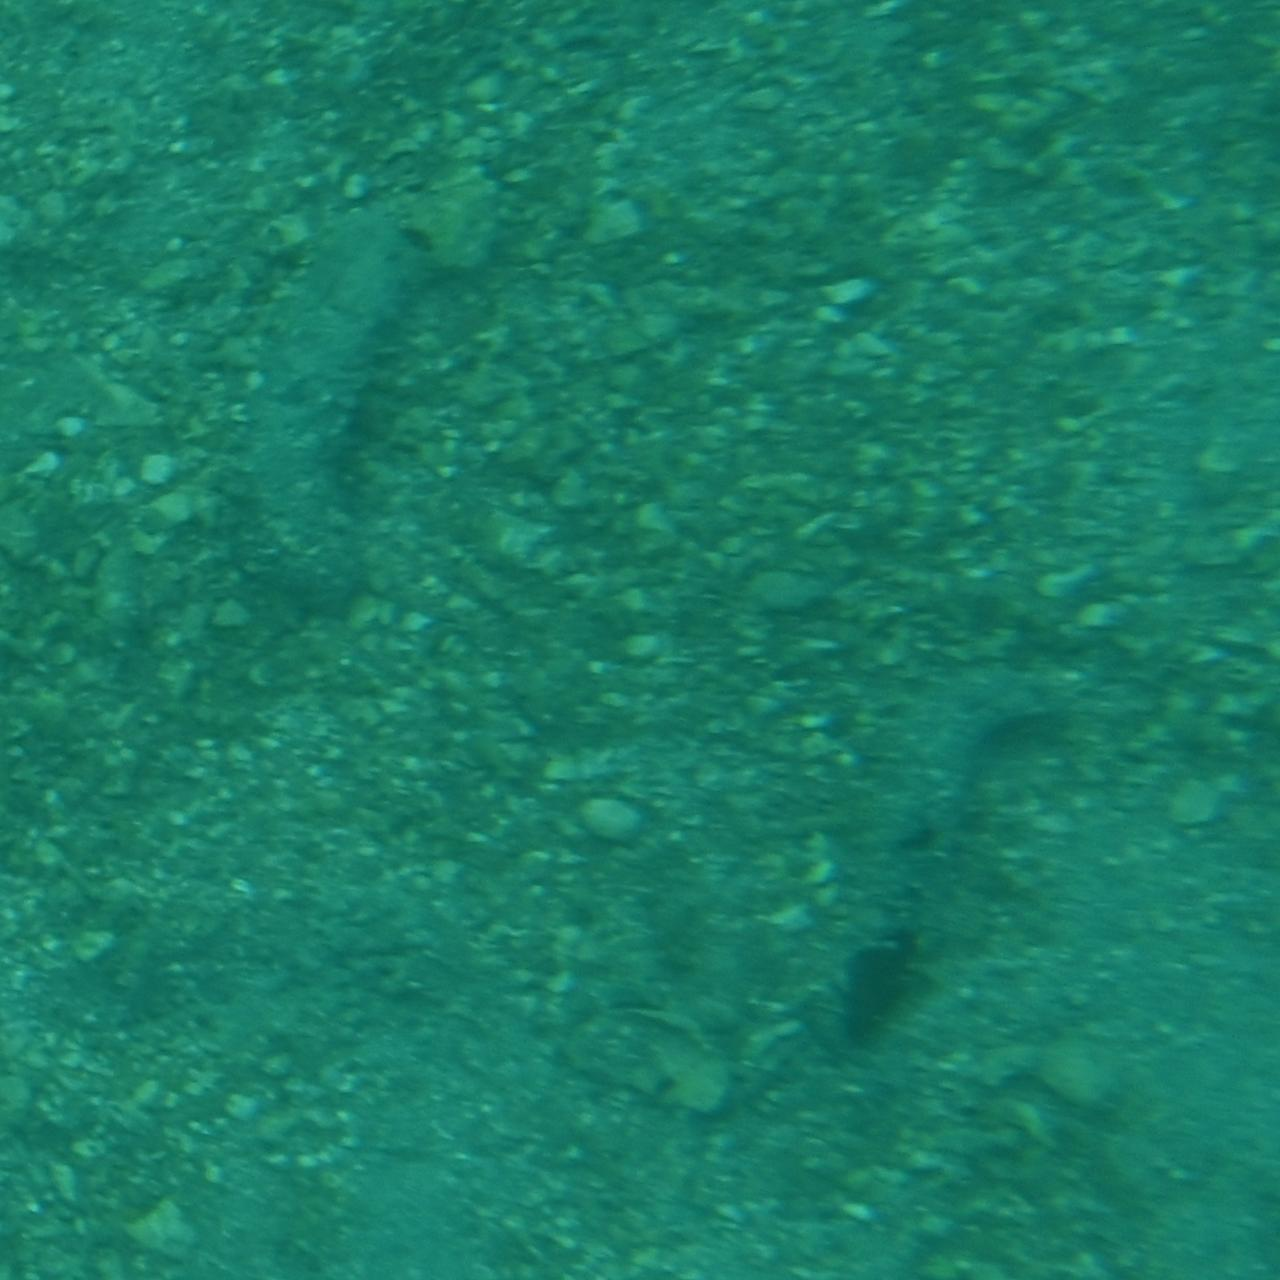Holothuria tubulosa: (742, 647, 1110, 1087), (234, 186, 474, 641)
